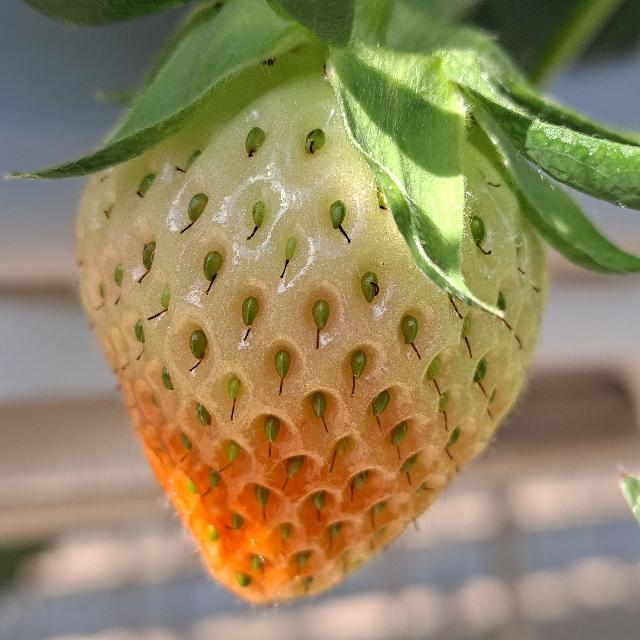Health_50: (76, 41, 548, 604)
